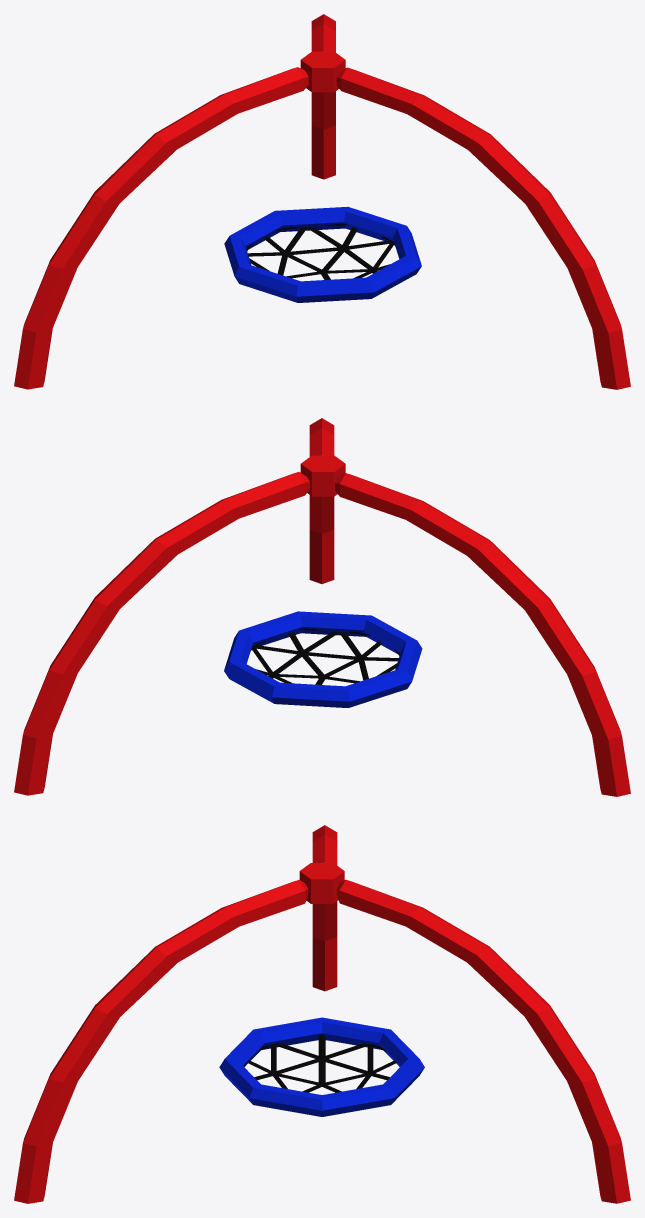
The model's file is VisioRoundSwing.fbx.
3 renders of one model, top to bottom at view 1: azimuth 30°, elevation 25°; view 2: azimuth 150°, elevation 25°; view 3: azimuth 270°, elevation 25°, orthographic.
Visible parts, largest first — view 1: Poles, Swingcircle, SwingNet, SwingTop; view 2: Poles, Swingcircle, SwingNet, SwingTop; view 3: Poles, Swingcircle, SwingNet, SwingTop.
Part boxes in pixels (box(x1,y1,x2,y2)): Poles: box(14, 14, 630, 389); Swingcircle: box(224, 206, 421, 302); SwingNet: box(246, 223, 394, 279); SwingTop: box(300, 51, 345, 92); Poles: box(14, 418, 630, 796); Swingcircle: box(224, 611, 422, 707); SwingNet: box(251, 628, 400, 684); SwingTop: box(300, 455, 345, 496); Poles: box(14, 825, 630, 1203); Swingcircle: box(219, 1017, 424, 1116); SwingNet: box(247, 1034, 396, 1092); SwingTop: box(299, 863, 344, 903).
Bounding box in the file's own units: 4.91 × 2.56 × 5.58.
